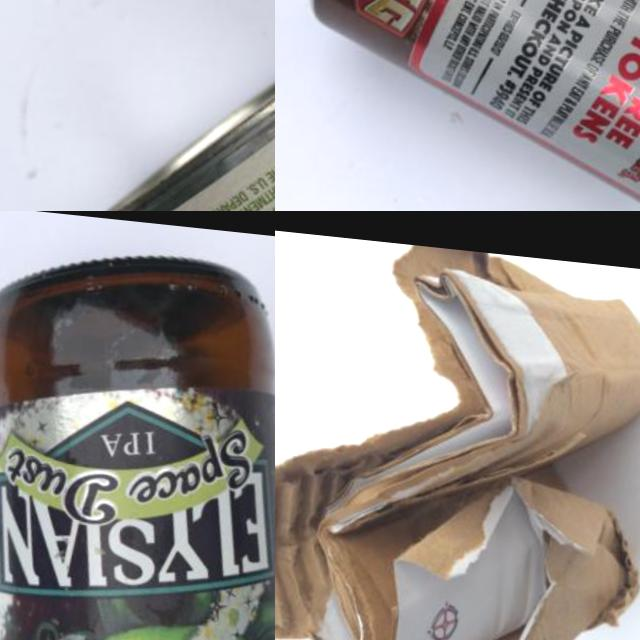garrafa de vidro: (0, 233, 275, 640)
lata: (283, 0, 640, 211), (76, 0, 275, 211)
papelão: (275, 227, 640, 640)
